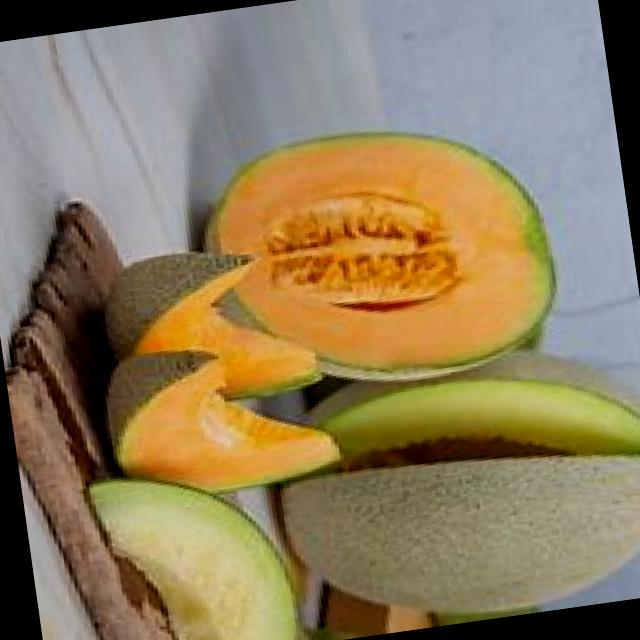cantaloupe: (188, 110, 565, 408), (98, 332, 344, 510), (94, 237, 320, 417)
